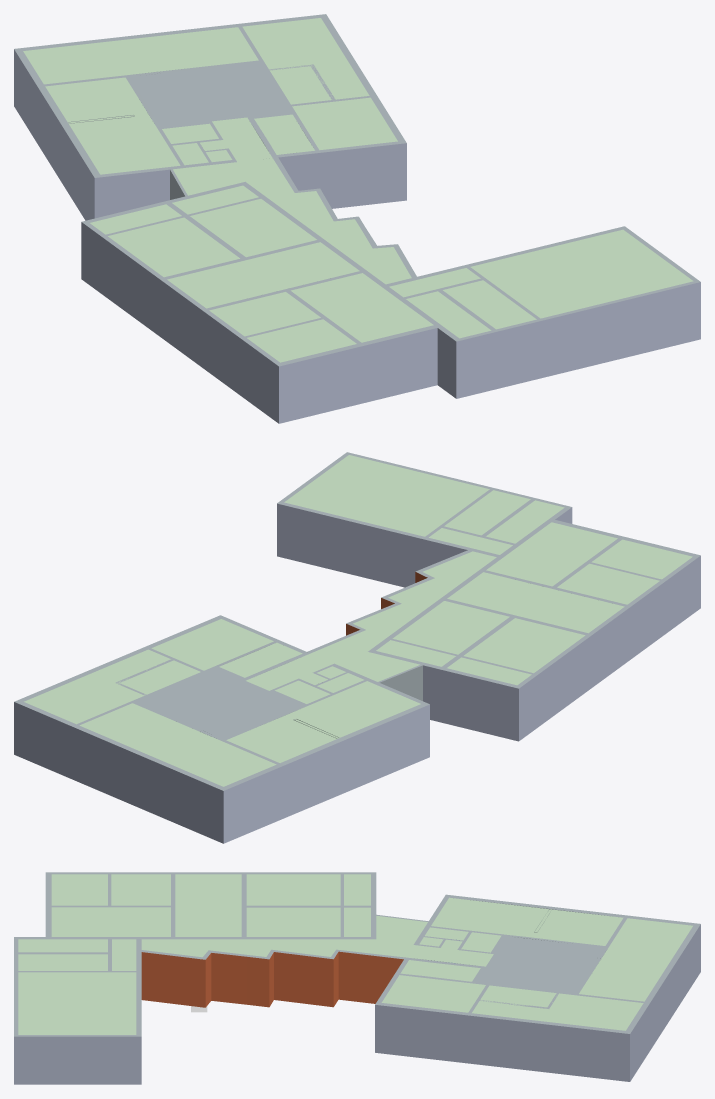
File: Skola.fbx
3 renders of one model, top to bottom at view 1: azimuth 30°, elevation 25°; view 2: azimuth 150°, elevation 25°; view 3: azimuth 270°, elevation 25°, orthographic. The views are drawn at different scales.
Visible parts, largest first — view 1: Plane.002; view 2: Plane.002; view 3: Plane.002.
Part boxes in pixels (box(x1,y1,x2,y2)): Plane.002: box(14, 14, 700, 423); Plane.002: box(14, 452, 700, 843); Plane.002: box(14, 872, 700, 1084).
Size of the model in its own units: 425 by 96.82 by 749.
